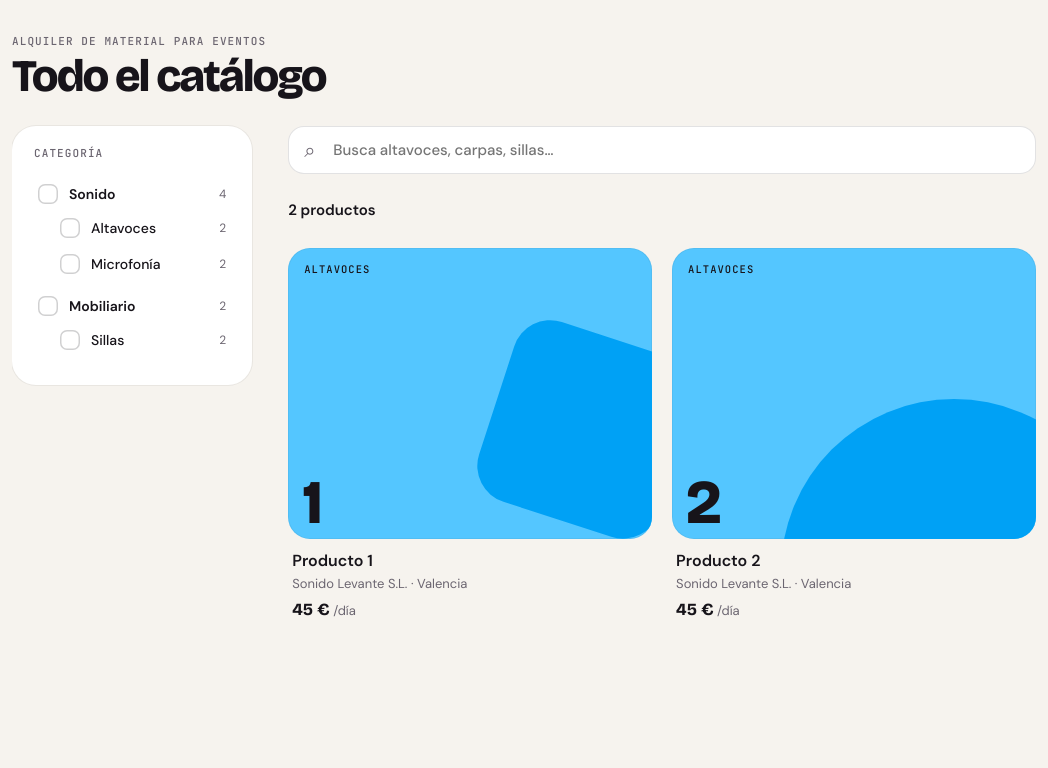
Catalog · filtre per categories › combina categories de pares diferents (OR)
Click the checkbox labelled "Microfonía 2": (143, 264) x1=56 y1=247 x2=230 y2=281
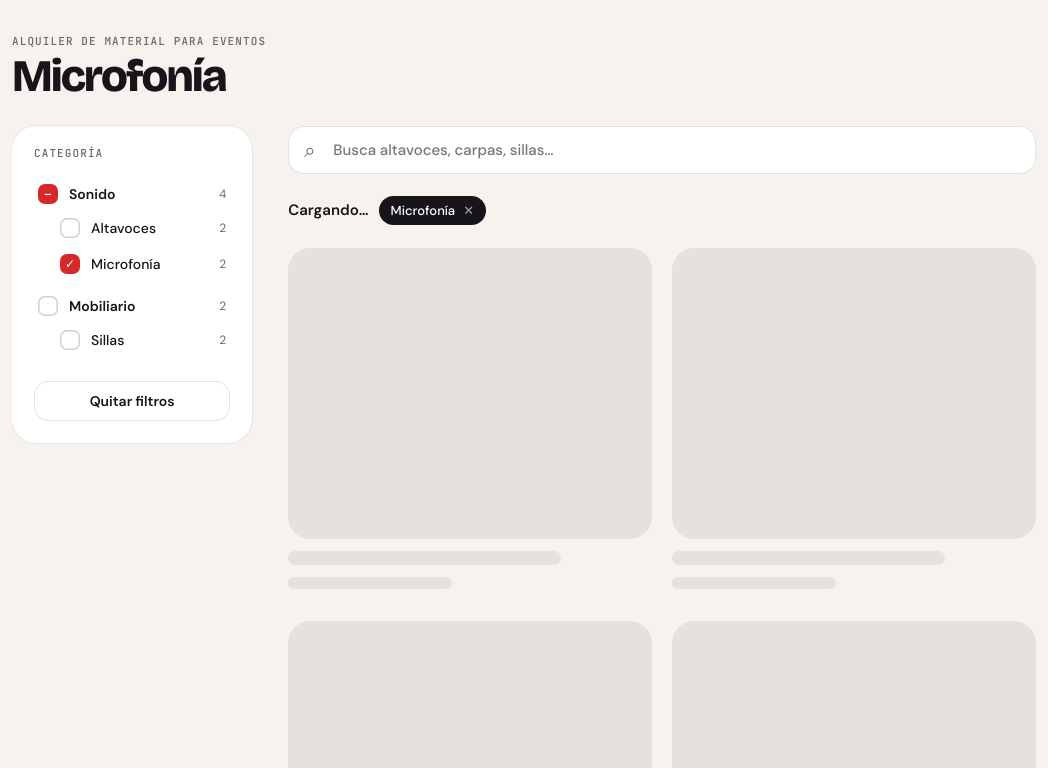
Click the checkbox labelled "Sillas 2": (143, 340) x1=56 y1=323 x2=230 y2=357
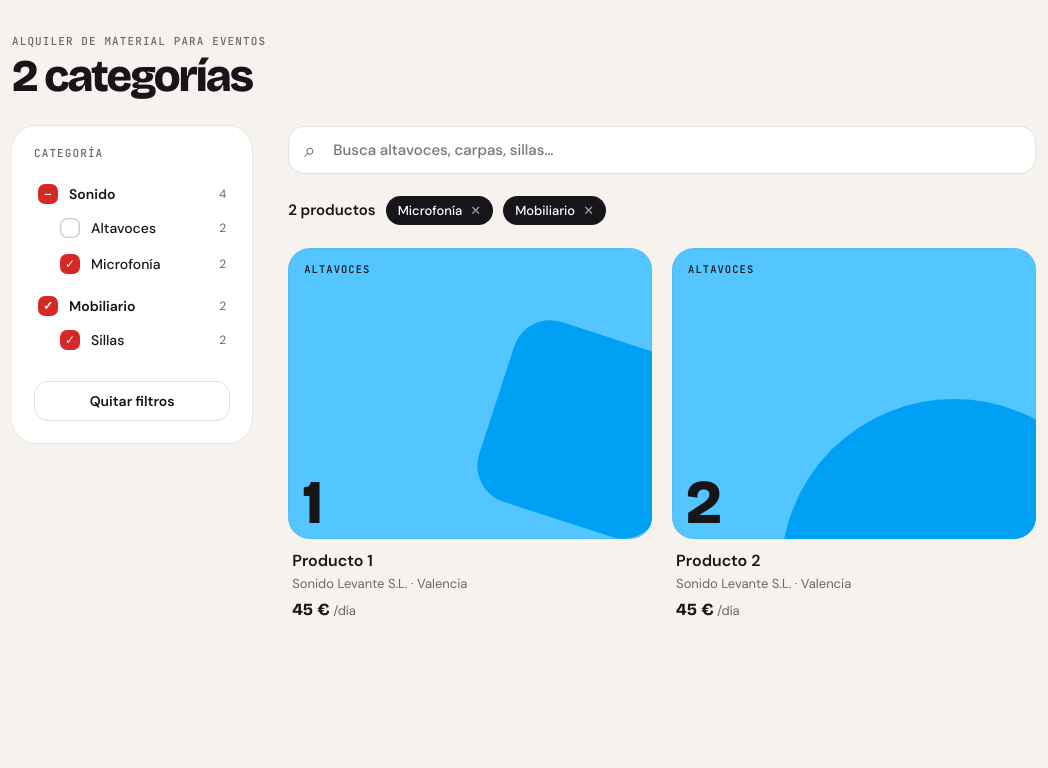
Expected: the heading "2 categorías" is shown, x1=12 y1=49 x2=252 y2=103
